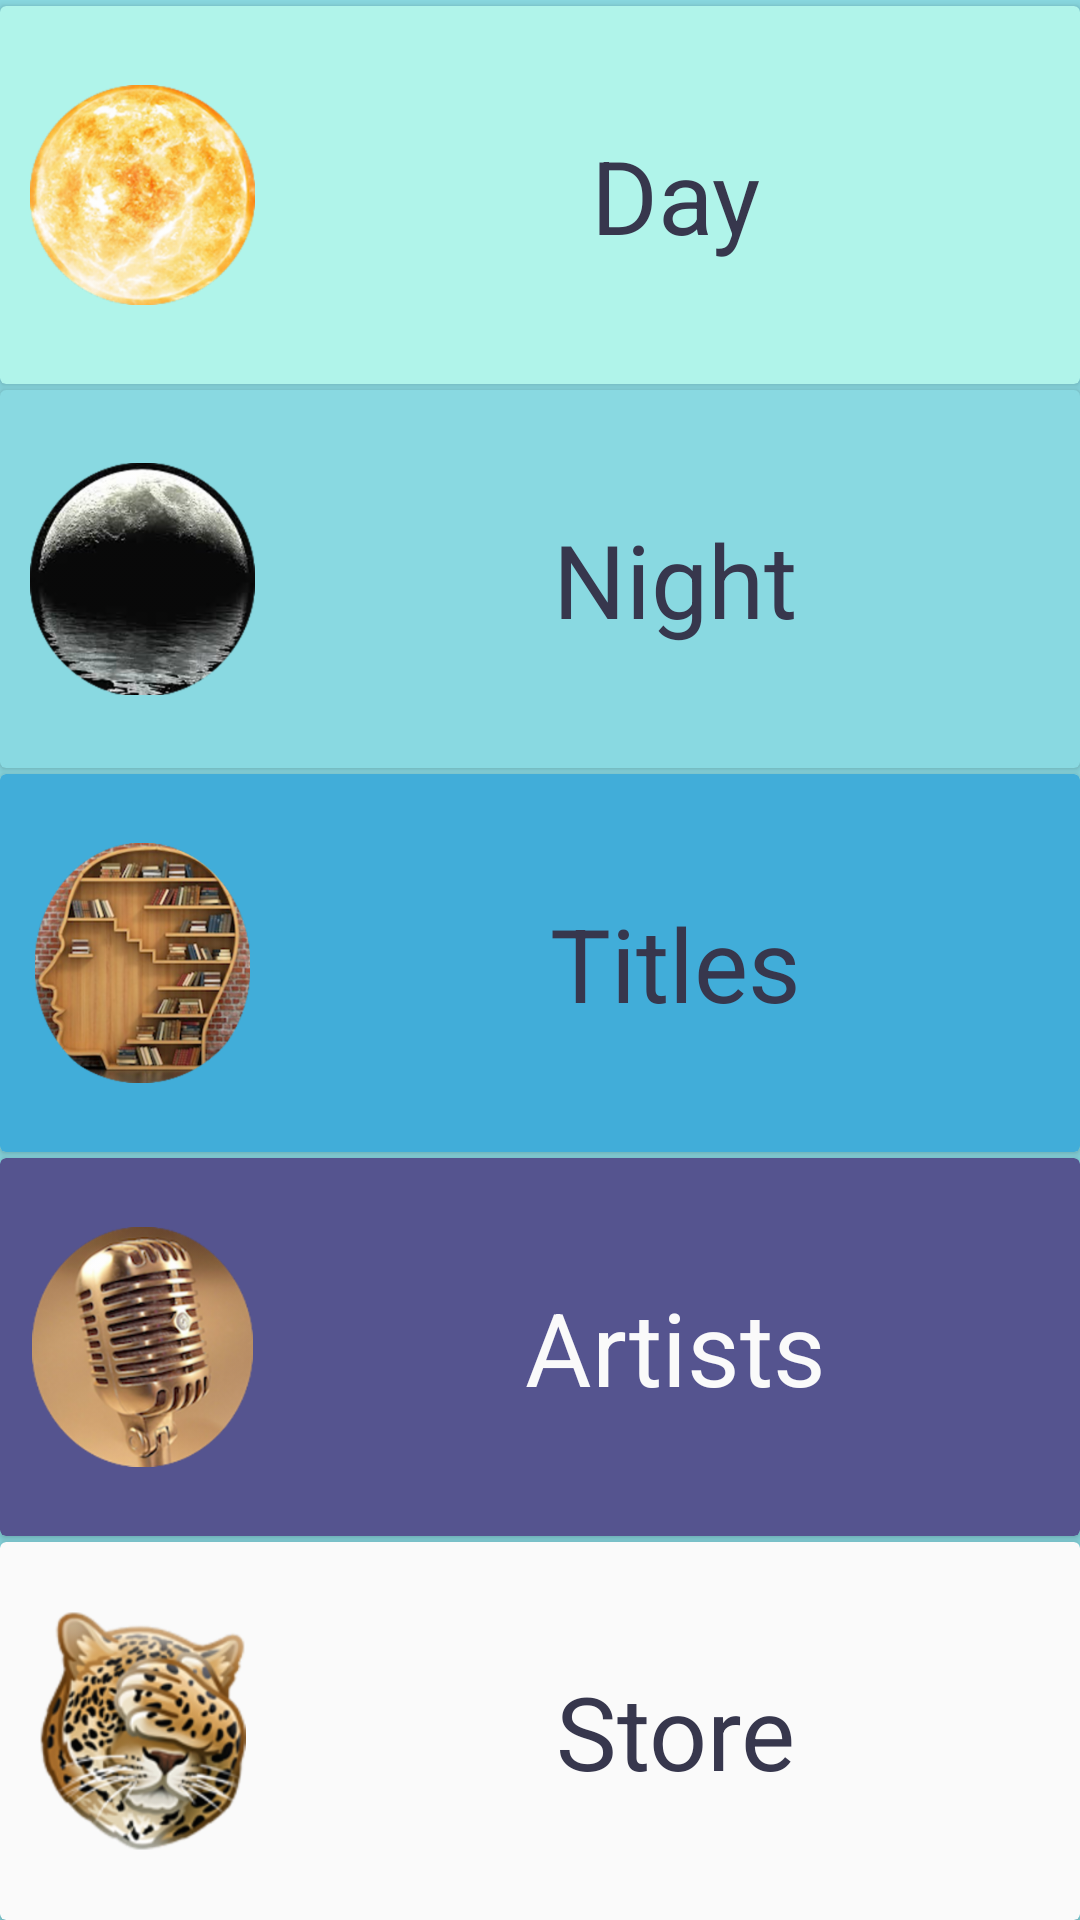

Point at icon controls on the screen. Image size 1080×1920, points as (x,y).
bookhead: (142,963)
microphone: (142,1347)
moon: (142,579)
sun: (142,195)
